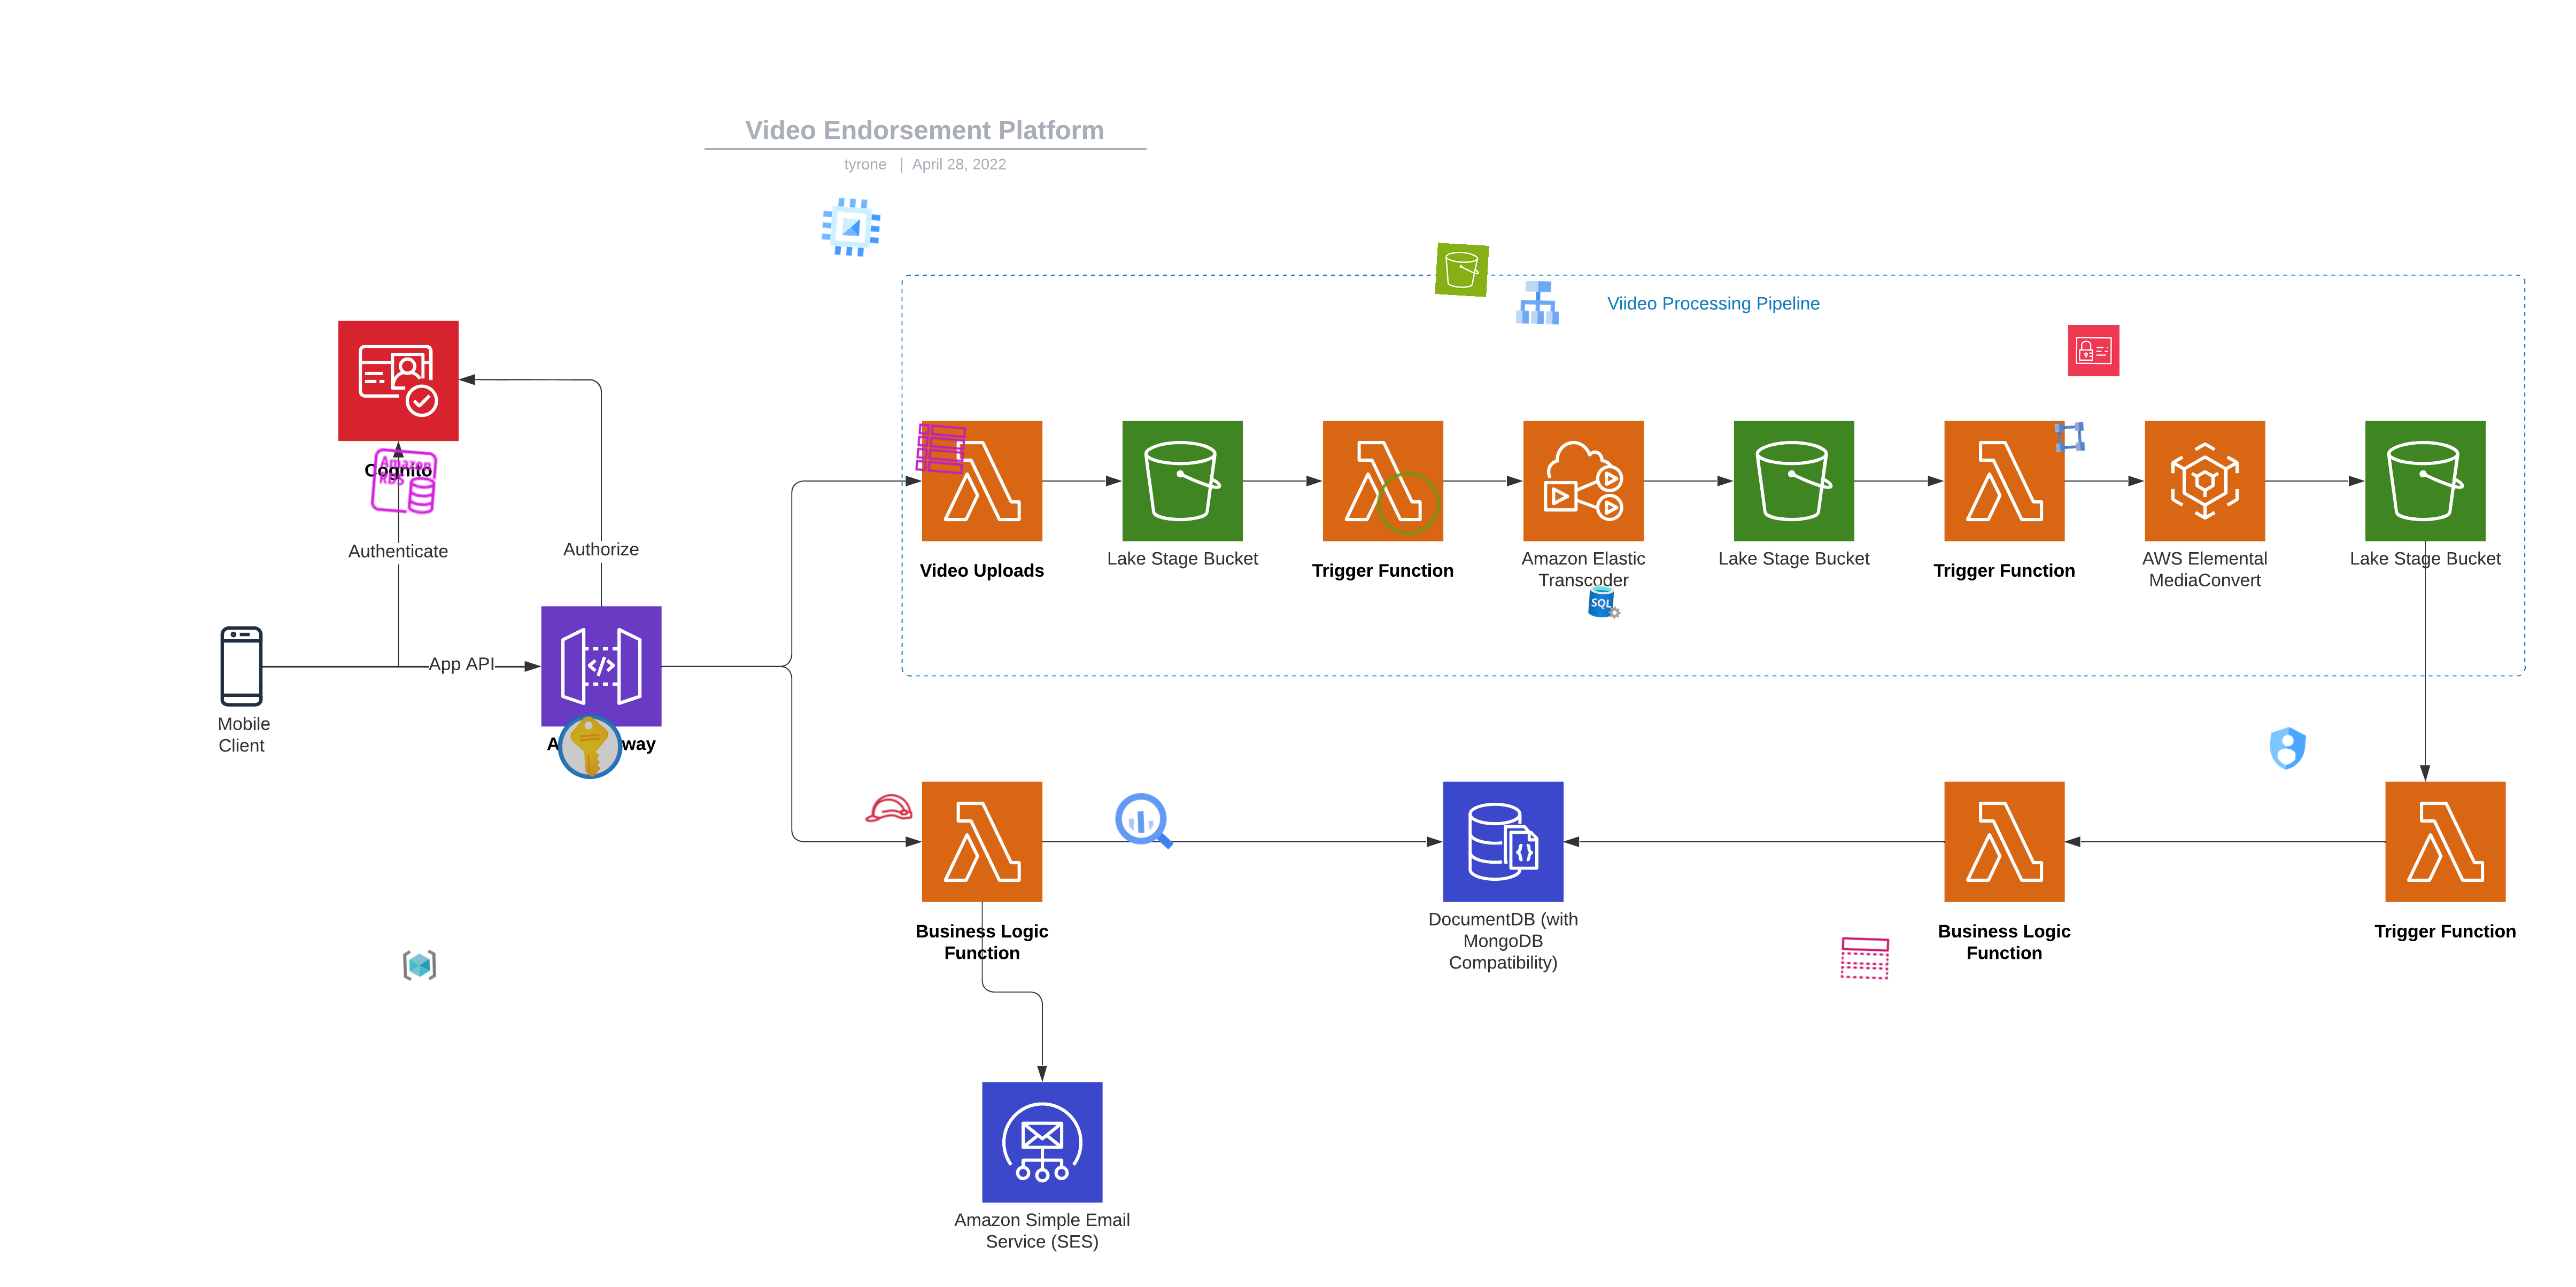aws_amazon_simple_storage_service: (1434, 243, 1490, 297)
aws_aurora_amazon_rds_instance: (366, 445, 442, 519)
aws_dynamodb_table: (913, 422, 969, 476)
aws_identity_access_management_role: (863, 781, 915, 836)
aws_identity_and_access_management: (2068, 325, 2119, 378)
aws_simple_notification_service_topic: (1838, 931, 1893, 985)
aws_simple_storage_service_object: (1373, 469, 1444, 538)
azure_key_vaults: (554, 709, 628, 783)
azure_resource_groups: (403, 947, 437, 983)
azure_sql_server: (1587, 583, 1625, 621)
gcp_bigquery: (1109, 786, 1180, 857)
gcp_cloud_load_balancing: (1511, 276, 1564, 330)
gcp_compute_engine: (815, 190, 887, 264)
gcp_identity_and_access_management: (2259, 721, 2315, 776)
gcp_virtual_private_cloud: (2052, 419, 2088, 455)
